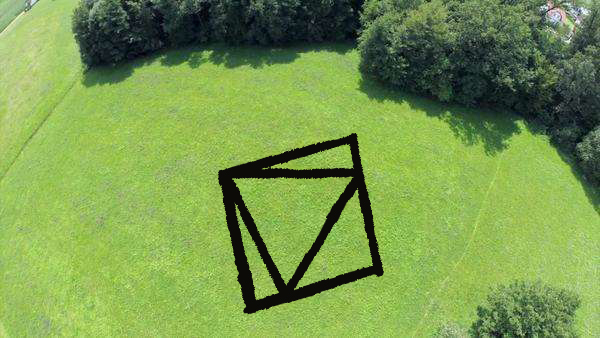marker: (213, 129, 389, 321)
